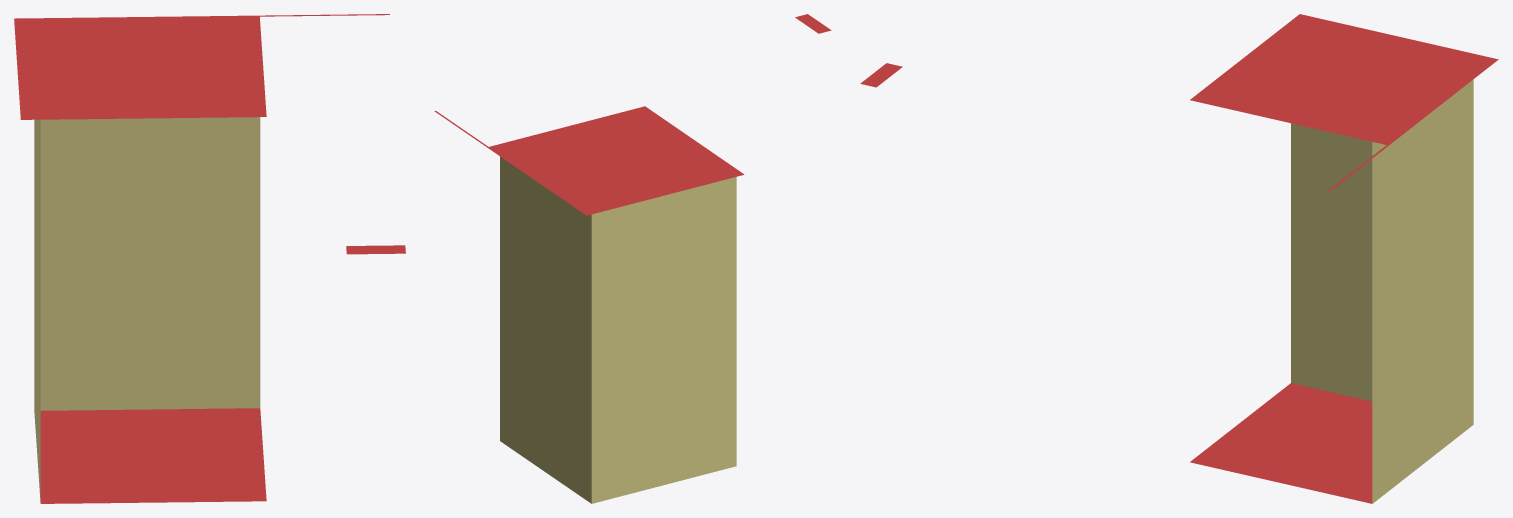
3 views of the same model, side by side, from view 1: azimuth 30°, elevation 25°; view 2: azimuth 150°, elevation 25°; view 3: azimuth 270°, elevation 25° (orthographic). The views are drawn at different scales.
Bounding box in the file's own units: 5.63 × 8.58 × 5.36.
